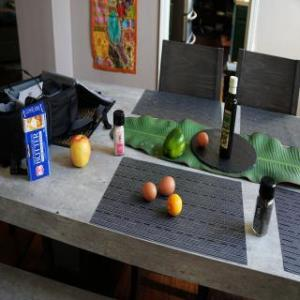bell_pepper: (163, 126, 188, 162)
egg: (142, 180, 158, 202), (160, 174, 176, 196), (196, 130, 208, 150)
